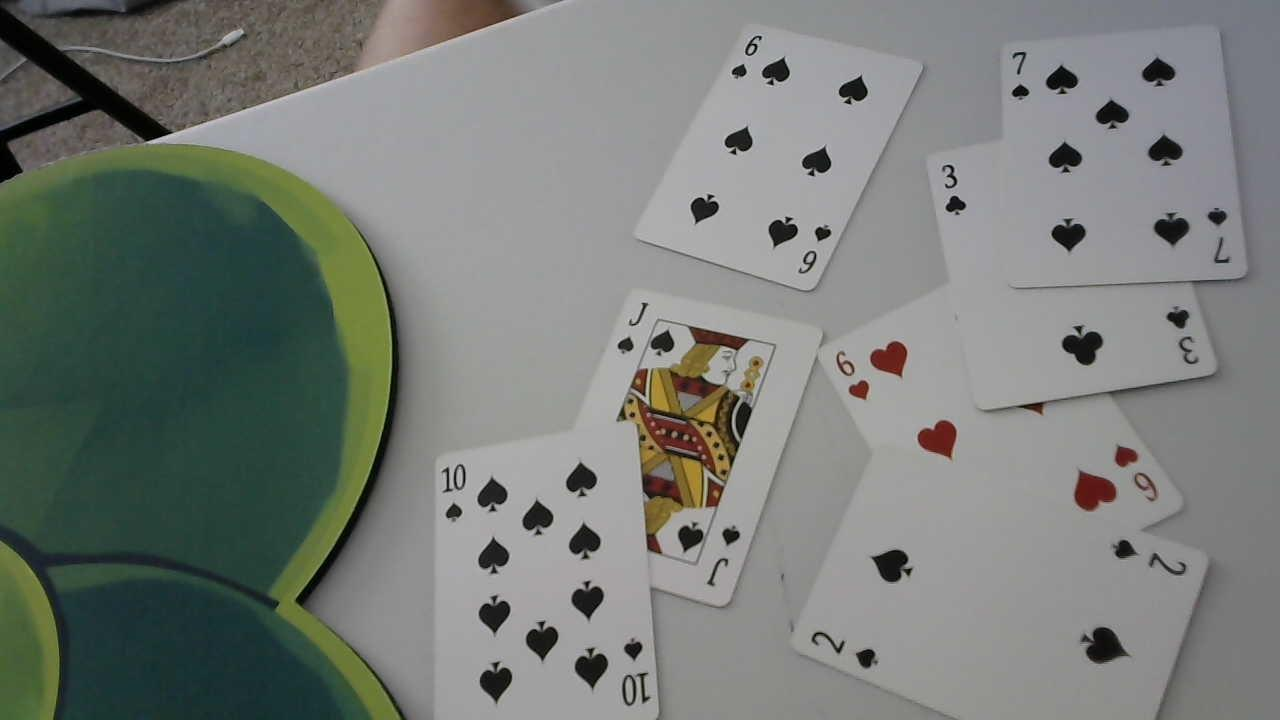10S: (616, 633, 656, 709), (435, 460, 475, 525)
2S: (806, 618, 890, 675), (1106, 532, 1197, 583)
3C: (1160, 299, 1204, 372), (933, 159, 972, 218)
6H: (1107, 437, 1169, 507), (833, 348, 873, 408)
6S: (795, 218, 834, 282), (724, 23, 764, 85)
7S: (1203, 201, 1238, 268), (1006, 45, 1038, 107)
JS: (704, 511, 743, 602), (610, 288, 654, 358)
